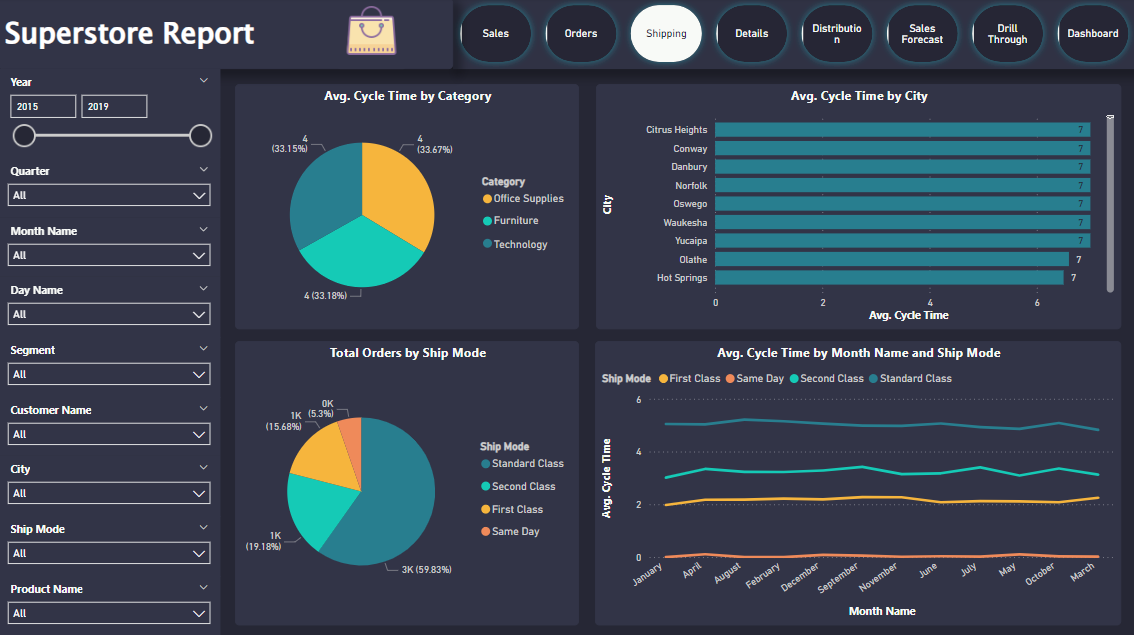

What the dashboard file says about the page in this screenshot:
{"tool":"powerbi","page":{"name":"Shipping","canvas":[1280,720],"ordinal":2},"visuals":[{"type":"pageNavigator","title":"dfsfsd","box":[512,0,768,80],"z":0},{"type":"pieChart","fields":{"Category":["Dim_ShipMode.Ship Mode"],"Y":["Dax Measure.# Orders"]},"box":[266.6,385.9,387,319.5],"z":1000},{"type":"clusteredBarChart","fields":{"Category":["Dim_places.City"],"Y":["Dax Measure.AverageDiffTime"]},"box":[672.8,96.8,590.6,275.6],"z":2000},{"type":"lineChart","fields":{"Y":["Dax Measure.AverageDiffTime"],"Series":["Dim_ShipMode.Ship Mode"],"Category":["Dim_date.Month Name"]},"box":[671.6,385.9,591.8,319.5],"z":3000},{"type":"pieChart","fields":{"Category":["Dim_ProductDetails.Category"],"Y":["Dax Measure.AverageDiffTime"]},"box":[266.6,96.8,387,275.6],"z":4000},{"type":"textbox","box":[0,0,511.9,79.9],"z":5000},{"type":"image","box":[380.2,0,79.9,79.9],"z":6000},{"type":"slicer","fields":{"Values":["Dim_date.Year"]},"box":[0,79.9,250,100],"z":6001},{"type":"slicer","fields":{"Values":["Dim_date.Quarter"]},"box":[0,180,250,67],"z":6002},{"type":"slicer","fields":{"Values":["Dim_date.Month Name"]},"box":[0,247.5,249.8,66.4],"z":6003},{"type":"slicer","fields":{"Values":["Dim_Customers.Segment"]},"box":[0,381.4,249.8,67.5],"z":6004},{"type":"slicer","fields":{"Values":["Dim_places.City"]},"box":[0,515.2,249.8,67.5],"z":6005},{"type":"slicer","fields":{"Values":["Dim_date.Day Name"]},"box":[0,313.9,249.8,67.5],"z":6006},{"type":"slicer","fields":{"Values":["Dim_Customers.Customer Name"]},"box":[0,448.9,249.8,66.4],"z":6007},{"type":"slicer","fields":{"Values":["Dim_ShipMode.Ship Mode"]},"box":[0,582.8,249.8,67.5],"z":6008},{"type":"slicer","fields":{"Values":["Dim_ProductDetails.Product Name"]},"box":[0,650.2,249.8,67.5],"z":6009}]}

Visuals, with their boxes in screenshot pixels (x1, y1, x2, y2), scaled from the page's 1280x720 canvas onto the 1134x635 screenshot:
"dfsfsd" pageNavigator: bbox=(454, 0, 1133, 71)
pieChart - Dim_ShipMode.Ship Mode x Dax Measure.# Orders: bbox=(236, 340, 579, 622)
clusteredBarChart - Dim_places.City x Dax Measure.AverageDiffTime: bbox=(596, 85, 1119, 328)
lineChart - Dax Measure.AverageDiffTime x Dim_ShipMode.Ship Mode: bbox=(595, 340, 1119, 622)
pieChart - Dim_ProductDetails.Category x Dax Measure.AverageDiffTime: bbox=(236, 85, 579, 328)
textbox: bbox=(0, 0, 454, 70)
image: bbox=(337, 0, 408, 70)
slicer - Dim_date.Year: bbox=(0, 70, 221, 159)
slicer - Dim_date.Quarter: bbox=(0, 159, 221, 218)
slicer - Dim_date.Month Name: bbox=(0, 218, 221, 277)
slicer - Dim_Customers.Segment: bbox=(0, 336, 221, 396)
slicer - Dim_places.City: bbox=(0, 454, 221, 514)
slicer - Dim_date.Day Name: bbox=(0, 277, 221, 336)
slicer - Dim_Customers.Customer Name: bbox=(0, 396, 221, 454)
slicer - Dim_ShipMode.Ship Mode: bbox=(0, 514, 221, 574)
slicer - Dim_ProductDetails.Product Name: bbox=(0, 573, 221, 633)
